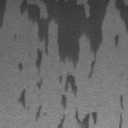red iron: (0, 0, 128, 128), (119, 94, 124, 128), (18, 90, 26, 108), (35, 106, 42, 121), (36, 78, 42, 89), (18, 62, 23, 70)
